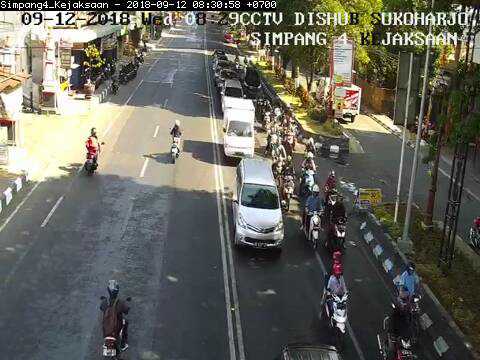motor: (321, 250, 355, 349), (396, 262, 426, 336), (302, 185, 323, 249), (328, 195, 349, 258), (301, 151, 313, 193)
